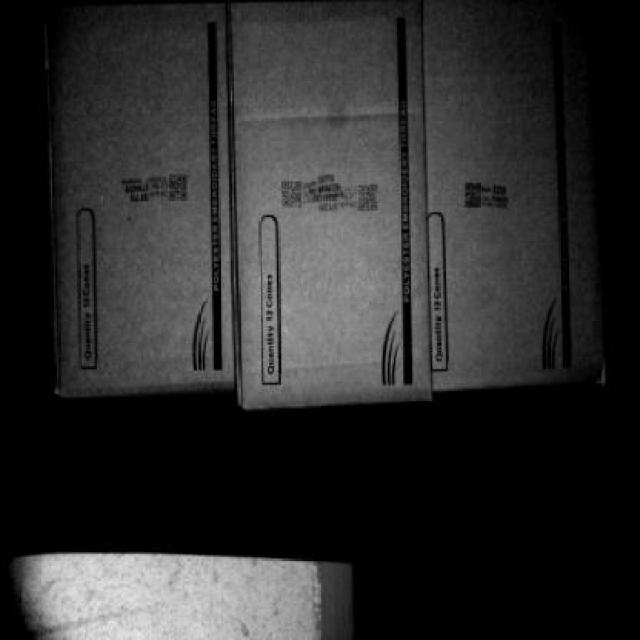cardboxes: (235, 0, 431, 403), (45, 3, 237, 388), (422, 0, 603, 392)
